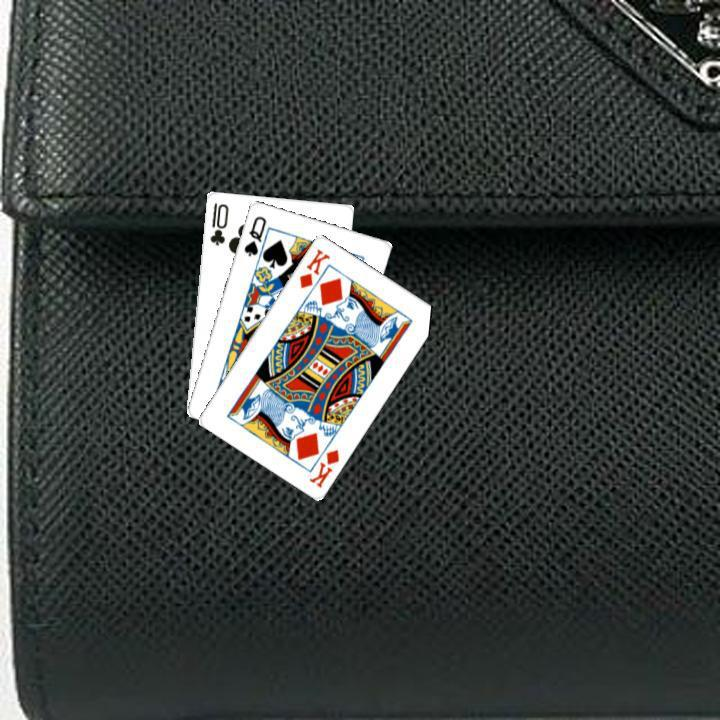10: (205, 198, 230, 247)
K: (295, 244, 332, 290), (305, 444, 341, 490)
Q: (239, 211, 268, 258)
